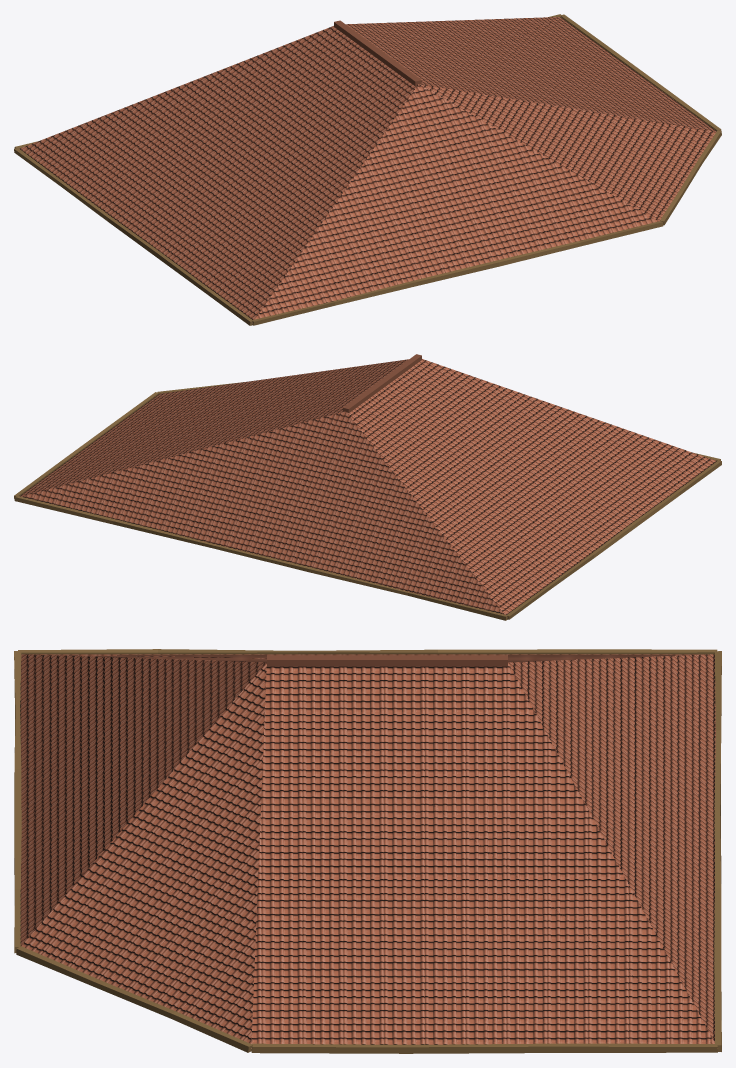
File: town_Roof_strangehouse_upper.glb
3 renders of one model, top to bottom at view 1: azimuth 30°, elevation 25°; view 2: azimuth 150°, elevation 25°; view 3: azimuth 270°, elevation 25°, orthographic. The views are drawn at different scales.
Visible parts, largest first — view 1: town_Roof_strangehouse_upper.003; view 2: town_Roof_strangehouse_upper.003; view 3: town_Roof_strangehouse_upper.003.
Boxes of the visible parts, x1=… form: town_Roof_strangehouse_upper.003: x1=14, y1=14, x2=721, y2=325; town_Roof_strangehouse_upper.003: x1=14, y1=354, x2=721, y2=620; town_Roof_strangehouse_upper.003: x1=14, y1=649, x2=721, y2=1053.
Bounding box in the file's own units: 12.1 × 2.57 × 9.1.
Materials: 2 (1 with a texture image).
